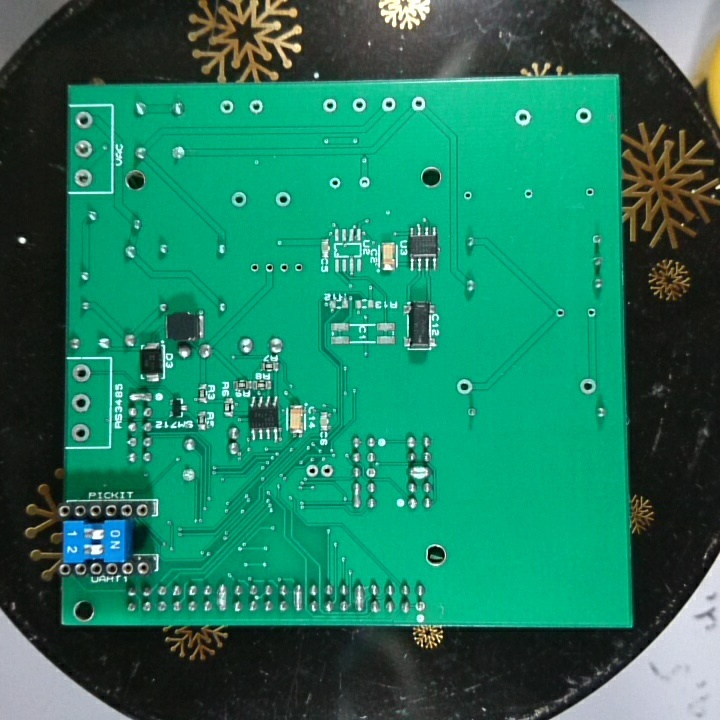F: (69, 390, 94, 415), (512, 106, 536, 132), (71, 136, 97, 160), (69, 361, 95, 385), (69, 420, 93, 444), (453, 375, 478, 398), (272, 186, 294, 212), (71, 165, 95, 188), (227, 188, 250, 212), (577, 375, 599, 400), (72, 109, 95, 132), (573, 104, 595, 128), (176, 464, 198, 486), (377, 94, 399, 115), (348, 96, 370, 117), (320, 95, 341, 117), (408, 93, 427, 116), (247, 96, 266, 119), (326, 173, 346, 194), (356, 174, 376, 194), (216, 97, 236, 117), (169, 143, 188, 163), (587, 231, 607, 249), (412, 597, 430, 615), (319, 461, 334, 482), (581, 183, 597, 202), (551, 303, 570, 319), (247, 260, 263, 278), (362, 465, 380, 481), (461, 186, 476, 205), (303, 463, 319, 480), (277, 258, 290, 278), (465, 405, 482, 420), (521, 186, 536, 201), (584, 305, 599, 320), (263, 259, 275, 277), (292, 258, 304, 275)
P: (351, 581, 367, 614), (290, 578, 304, 614), (405, 463, 433, 480), (214, 580, 228, 614), (127, 389, 157, 404), (350, 479, 363, 509)
